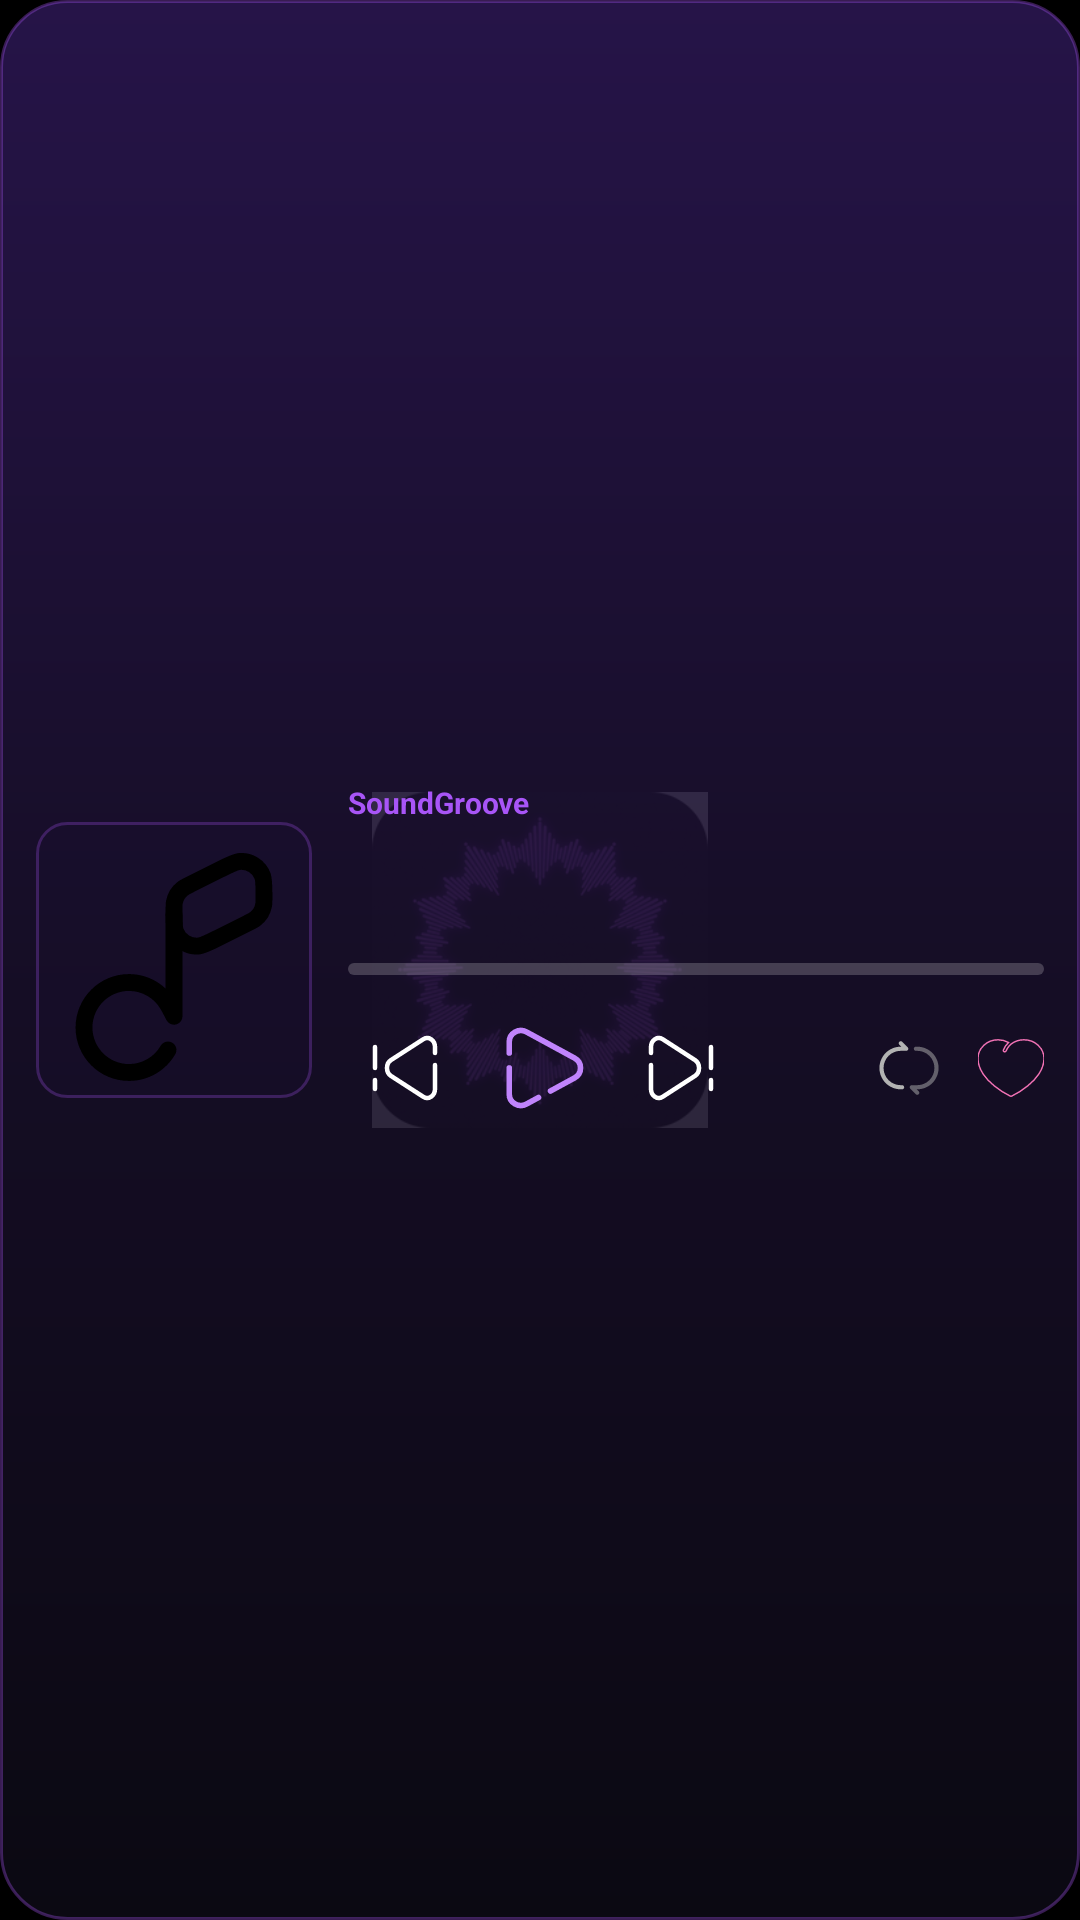

Point at icon controls on the screen. Image size 1080*1920, points as (x,y).
Lecture / Pause: (543,1057)
Piste précédente: (417,1068)
Piste suivante: (669,1068)
Pochette album: (174,960)
Répétition: (909,1068)
